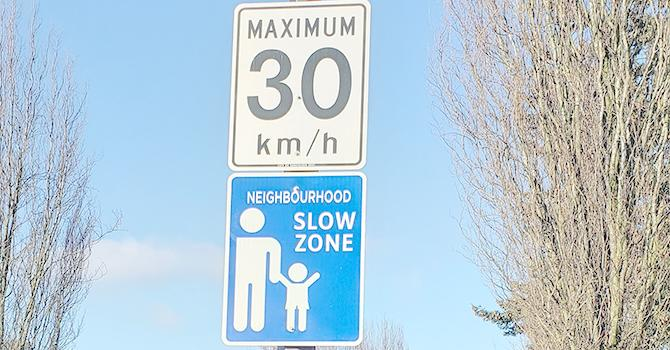speed limit sign: (226, 1, 372, 170)
